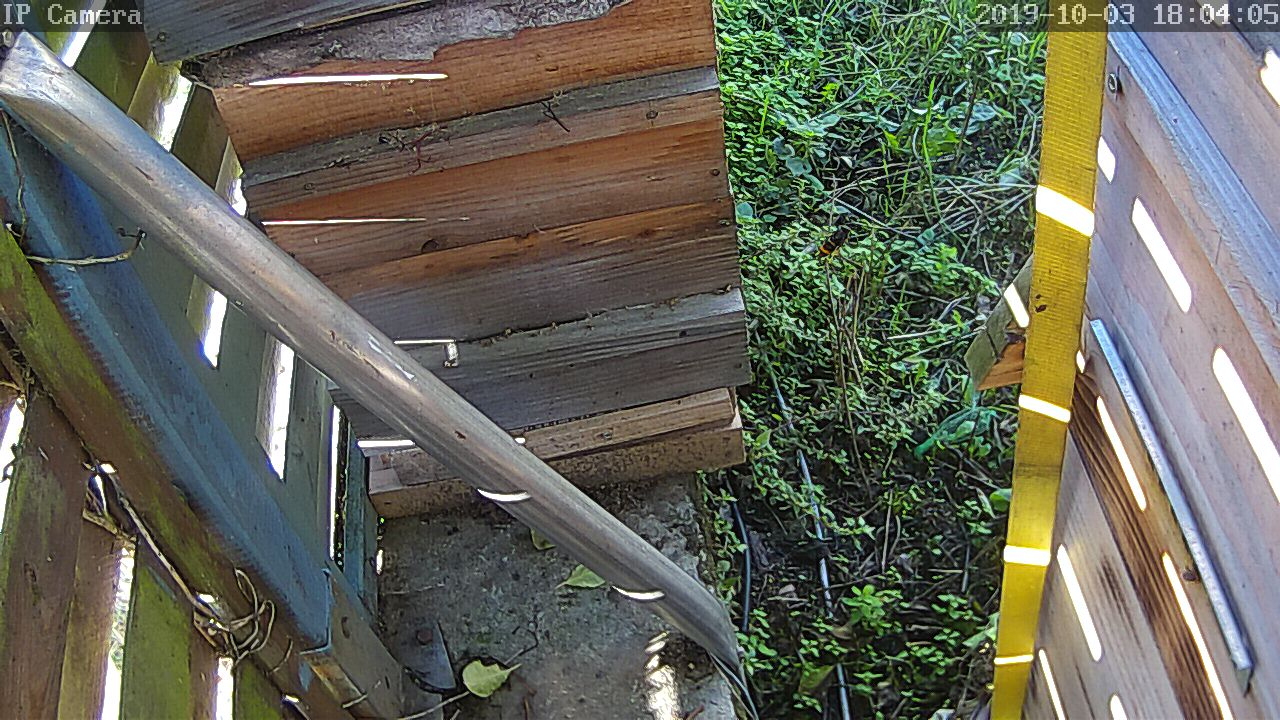bee: (1157, 544, 1196, 585)
hornet: (811, 223, 849, 268)
